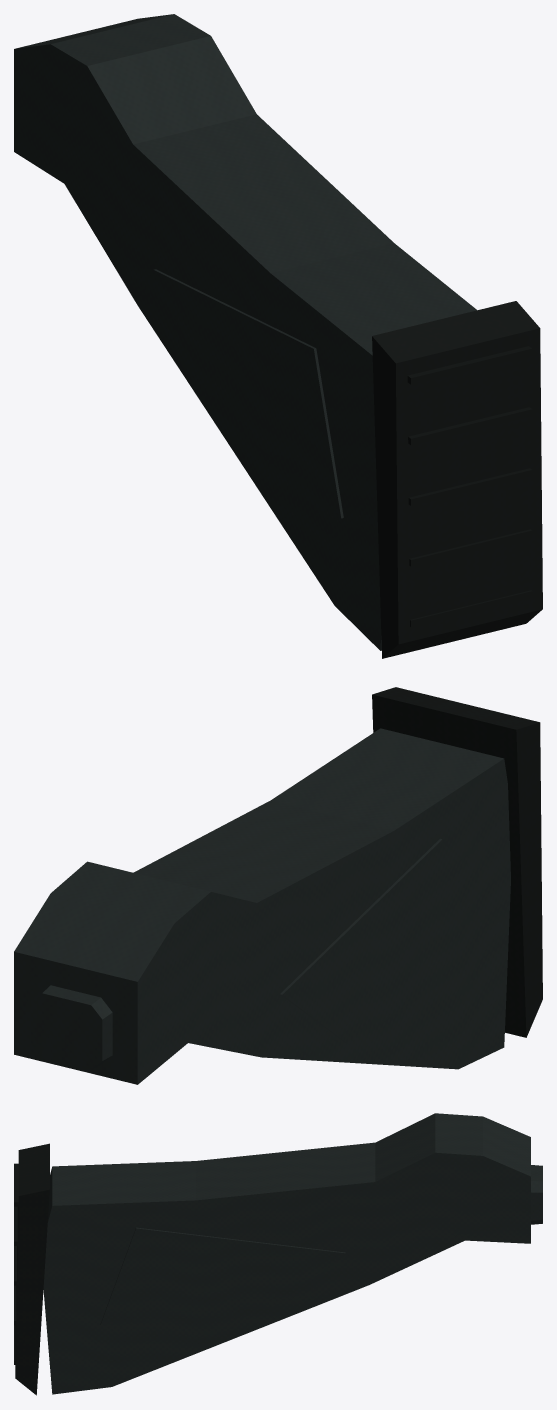
Rendered from mp5_stock.glb.
3 views of the same model, one above another, from view 1: azimuth 30°, elevation 25°; view 2: azimuth 150°, elevation 25°; view 3: azimuth 270°, elevation 25° (orthographic). The views are drawn at different scales.
Parts seen in each view (by area): view 1: stock__mp5_stock_LOD1_RAID_Secondary_Original_polymer, stock__mp5_stock_LOD0_RAID_Secondary_Original_polymer, stock__mp5_stock_LOD1_RAID_Secondary_Original_rubber, stock__mp5_stock_LOD0_RAID_Secondary_Original_rubber; view 2: stock__mp5_stock_LOD0_RAID_Secondary_Original_polymer, stock__mp5_stock_LOD1_RAID_Secondary_Original_polymer, stock__mp5_stock_LOD0_RAID_Secondary_Original_rubber, stock__mp5_stock_LOD1_RAID_Secondary_Original_rubber; view 3: stock__mp5_stock_LOD0_RAID_Secondary_Original_polymer, stock__mp5_stock_LOD1_RAID_Secondary_Original_polymer, stock__mp5_stock_LOD0_RAID_Secondary_Original_rubber, stock__mp5_stock_LOD1_RAID_Secondary_Original_rubber.
Boxes of the visible parts, <box> form: stock__mp5_stock_LOD1_RAID_Secondary_Original_polymer: <box>14,14,476,650</box>; stock__mp5_stock_LOD0_RAID_Secondary_Original_polymer: <box>15,15,472,642</box>; stock__mp5_stock_LOD1_RAID_Secondary_Original_rubber: <box>372,301,542,658</box>; stock__mp5_stock_LOD0_RAID_Secondary_Original_rubber: <box>372,303,540,657</box>; stock__mp5_stock_LOD0_RAID_Secondary_Original_polymer: <box>18,731,508,1078</box>; stock__mp5_stock_LOD1_RAID_Secondary_Original_polymer: <box>14,728,510,1084</box>; stock__mp5_stock_LOD0_RAID_Secondary_Original_rubber: <box>374,688,541,1034</box>; stock__mp5_stock_LOD1_RAID_Secondary_Original_rubber: <box>372,687,542,1037</box>; stock__mp5_stock_LOD0_RAID_Secondary_Original_polymer: <box>45,1115,542,1390</box>; stock__mp5_stock_LOD1_RAID_Secondary_Original_polymer: <box>43,1113,530,1394</box>; stock__mp5_stock_LOD0_RAID_Secondary_Original_rubber: <box>14,1145,49,1384</box>; stock__mp5_stock_LOD1_RAID_Secondary_Original_rubber: <box>15,1143,49,1395</box>.
Bounding box in the file's own units: 0.091 × 0.223 × 0.442.
2 materials, 2 textured.
